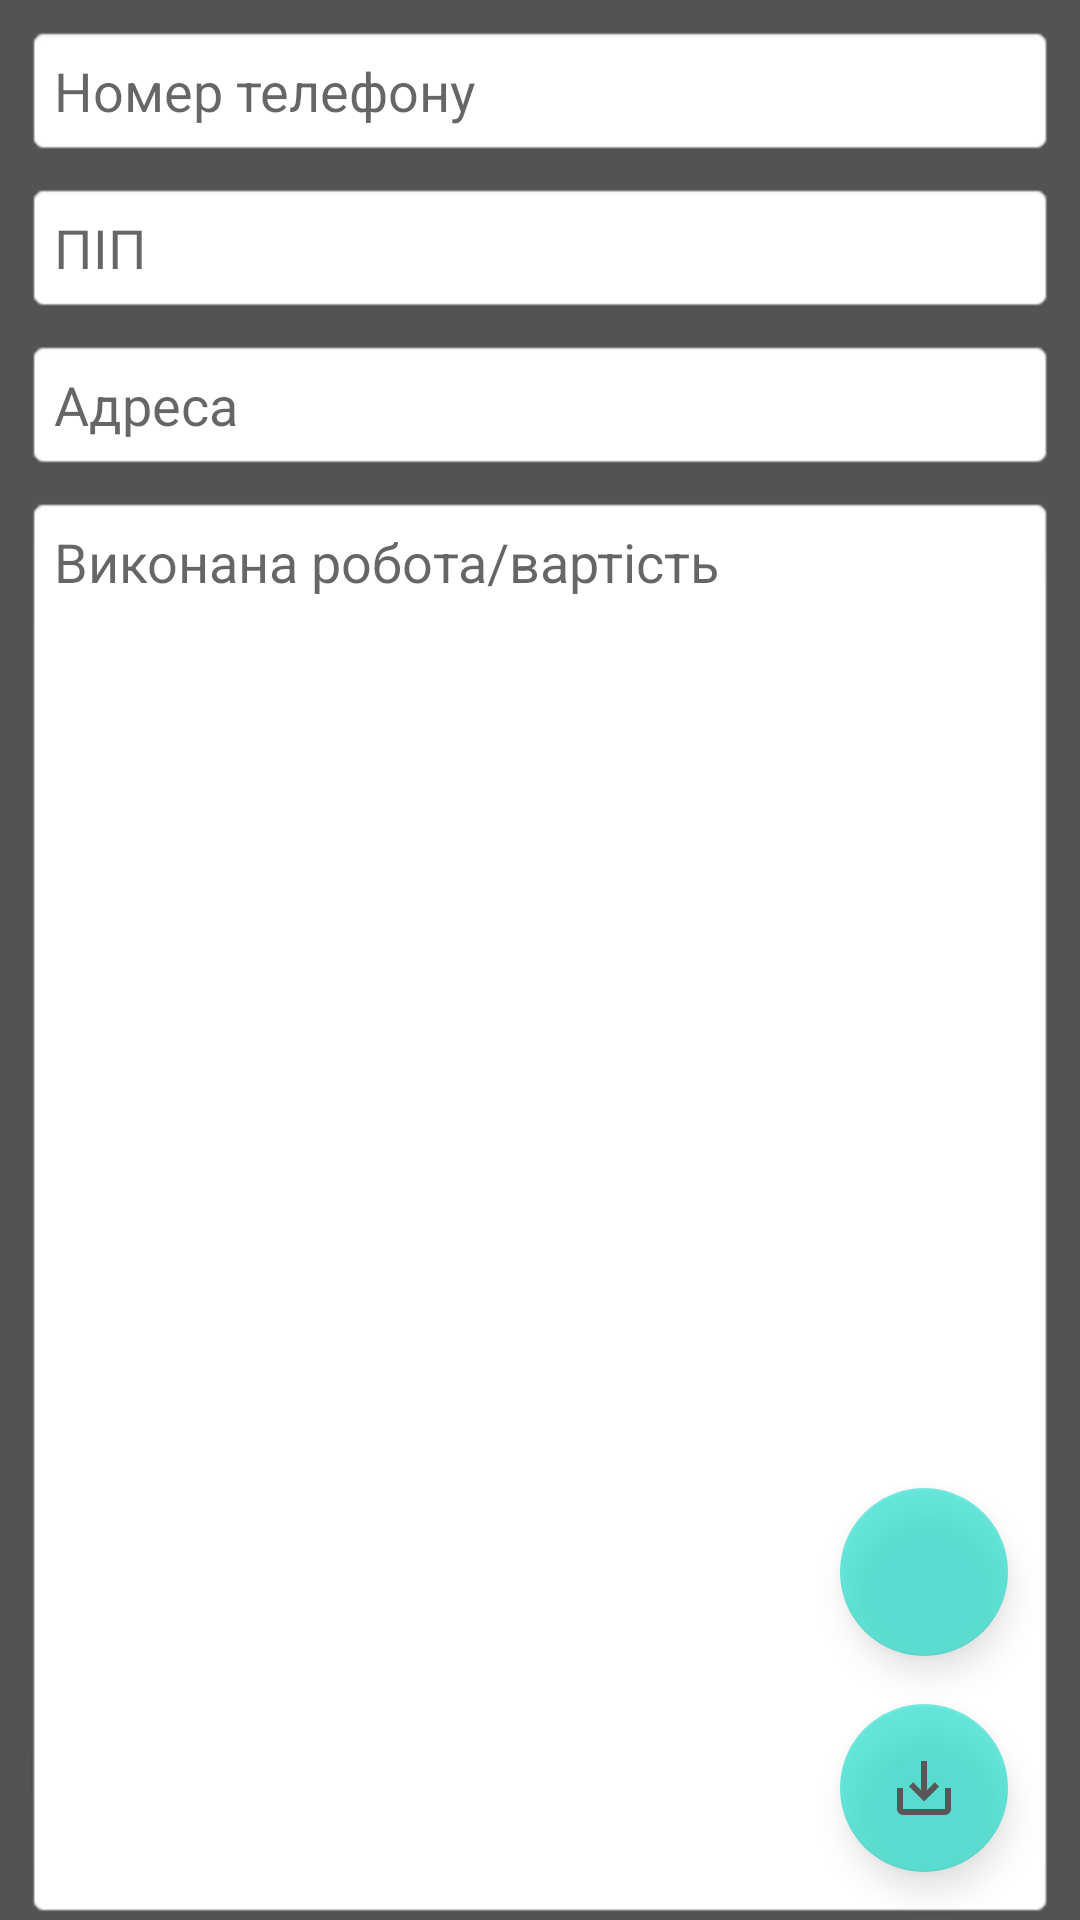

Named icons in this screenshot (1080px×1920px) and their centers, (x=x, y=y):
save: (x=924, y=1788)
